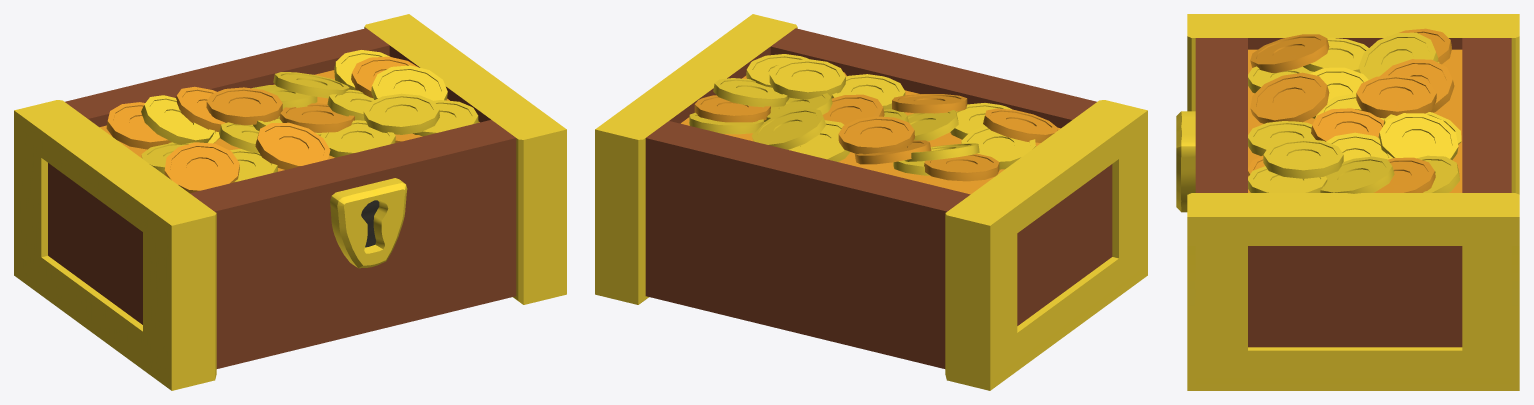
The model's file is Chest_down.fbx.
3 views of the same model, side by side, from view 1: azimuth 30°, elevation 25°; view 2: azimuth 150°, elevation 25°; view 3: azimuth 270°, elevation 25° (orthographic). The views are drawn at different scales.
Visible parts, largest first — view 1: Chest_down; view 2: Chest_down; view 3: Chest_down.
Part boxes in pixels (left/top/right/bottom): Chest_down: left=14, top=14, right=566, bottom=390; Chest_down: left=595, top=14, right=1147, bottom=390; Chest_down: left=1176, top=14, right=1519, bottom=390.
Size of the model in its own units: 97.83 by 44.26 by 69.92.
